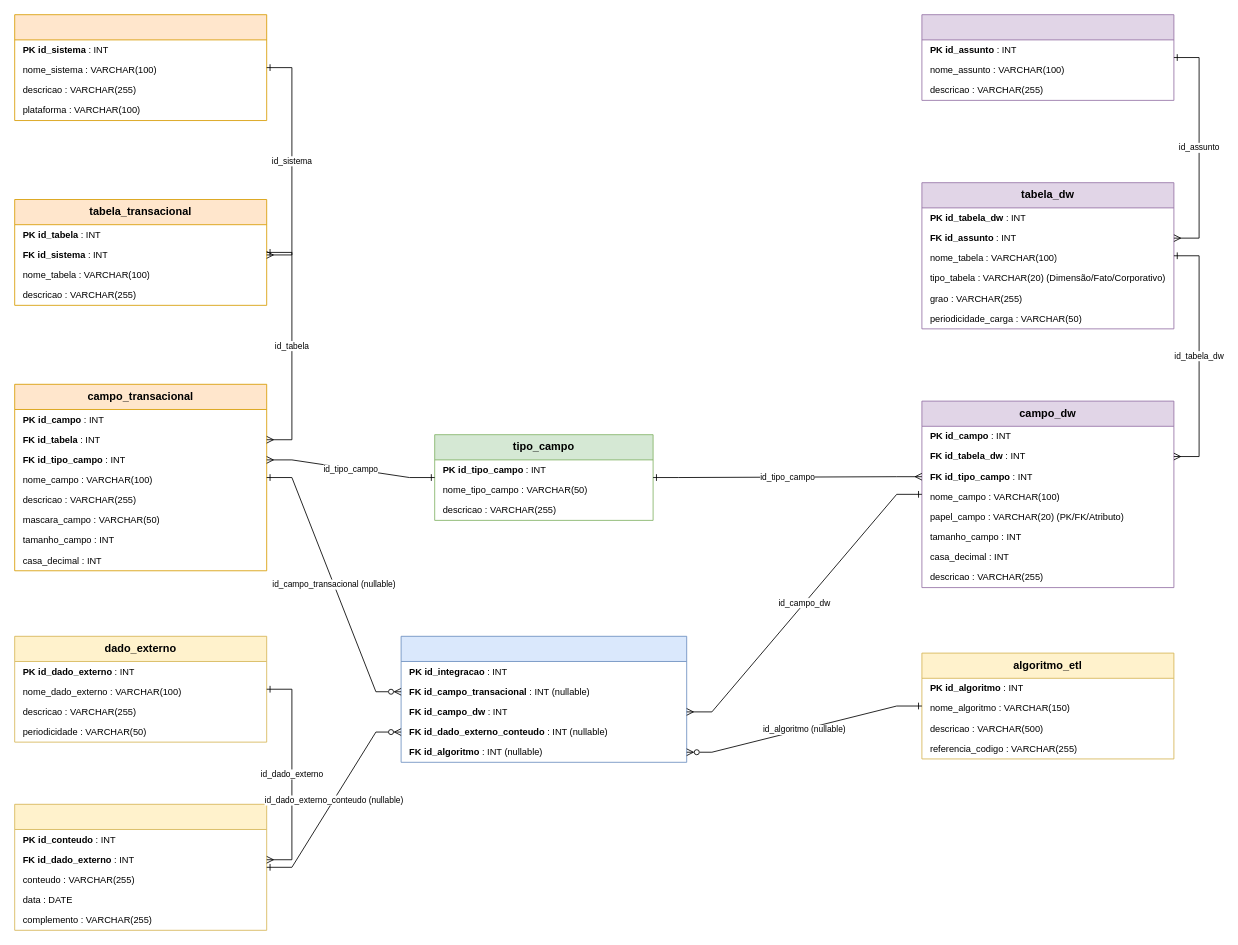
This 1238x945 diagram has some shape labels left out. The shapes that lost their labels are listed below. From the top down, each one's box as (x1, y1, x2, y2) in pixels, then its label:
(14, 14, 267, 121): sistema_transacional
(921, 14, 1174, 100): assunto_dw
(400, 635, 687, 762): integracao_transacional_dw
(14, 803, 267, 930): dado_externo_conteudo
